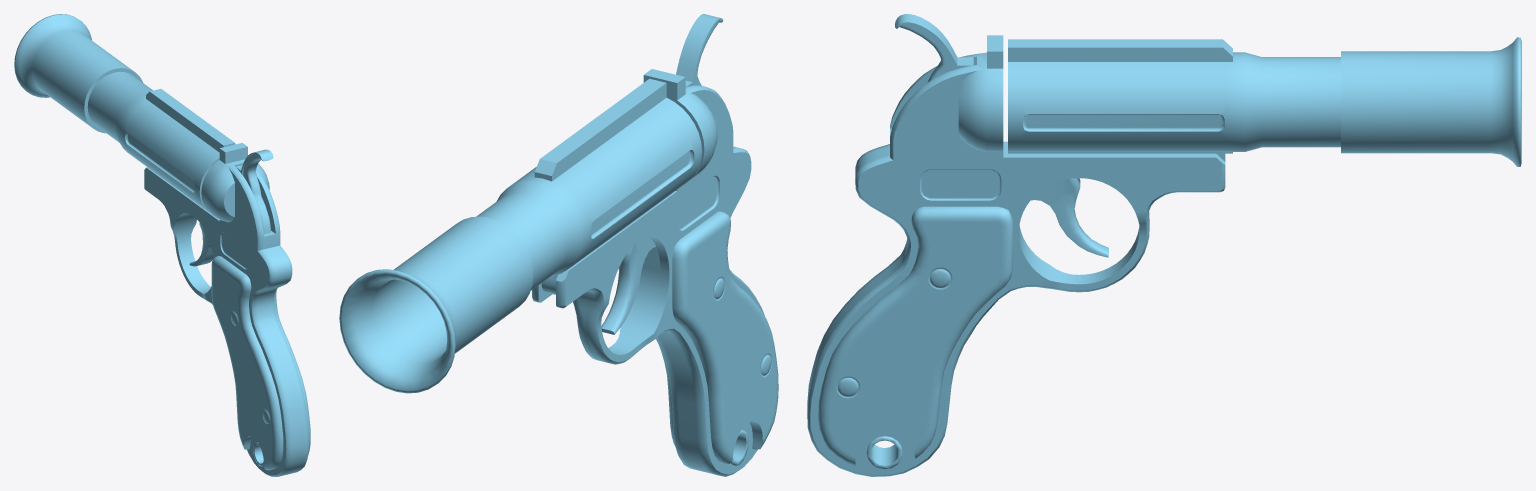
File: gun.fbx
3 views of the same model, side by side, from view 1: azimuth 30°, elevation 25°; view 2: azimuth 150°, elevation 25°; view 3: azimuth 270°, elevation 25° (orthographic). The views are drawn at different scales.
Visible parts, largest first — view 1: FlareGun_Frame, FlareGun_Barrel, FlareGun_Hammer, FlareGun_Trigger; view 2: FlareGun_Barrel, FlareGun_Frame, FlareGun_Trigger, FlareGun_Hammer; view 3: FlareGun_Frame, FlareGun_Barrel, FlareGun_Trigger, FlareGun_Hammer.
Part boxes in pixels (x1,y1,x2,y2): FlareGun_Frame: [144, 142, 310, 476]; FlareGun_Barrel: [14, 14, 235, 212]; FlareGun_Hammer: [236, 149, 273, 234]; FlareGun_Trigger: [189, 223, 213, 266]; FlareGun_Barrel: [339, 78, 701, 393]; FlareGun_Frame: [532, 69, 778, 476]; FlareGun_Trigger: [601, 236, 655, 334]; FlareGun_Hammer: [676, 14, 723, 87]; FlareGun_Frame: [807, 35, 1225, 476]; FlareGun_Barrel: [1008, 37, 1521, 166]; FlareGun_Trigger: [1031, 178, 1108, 257]; FlareGun_Hammer: [895, 14, 974, 82].
Bounding box in the file's own units: 14.59 × 56.07 × 80.31.
